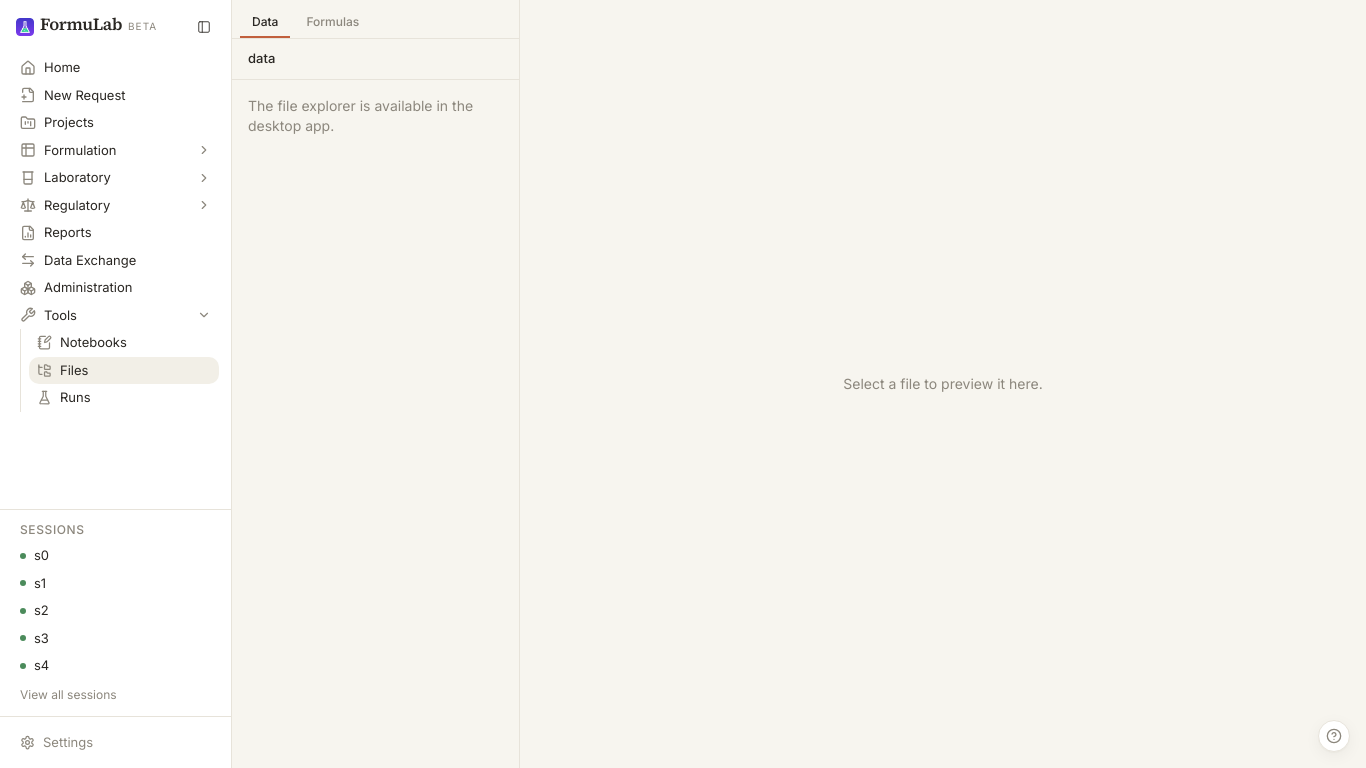
Sidebar — Sessions › expands to show every session, in its own bounded scroll area, after 'View all sessions'
The width and height of the screenshot is (1366, 768).
Click the button "View all sessions" at (116, 694), box [12,682,219,708]
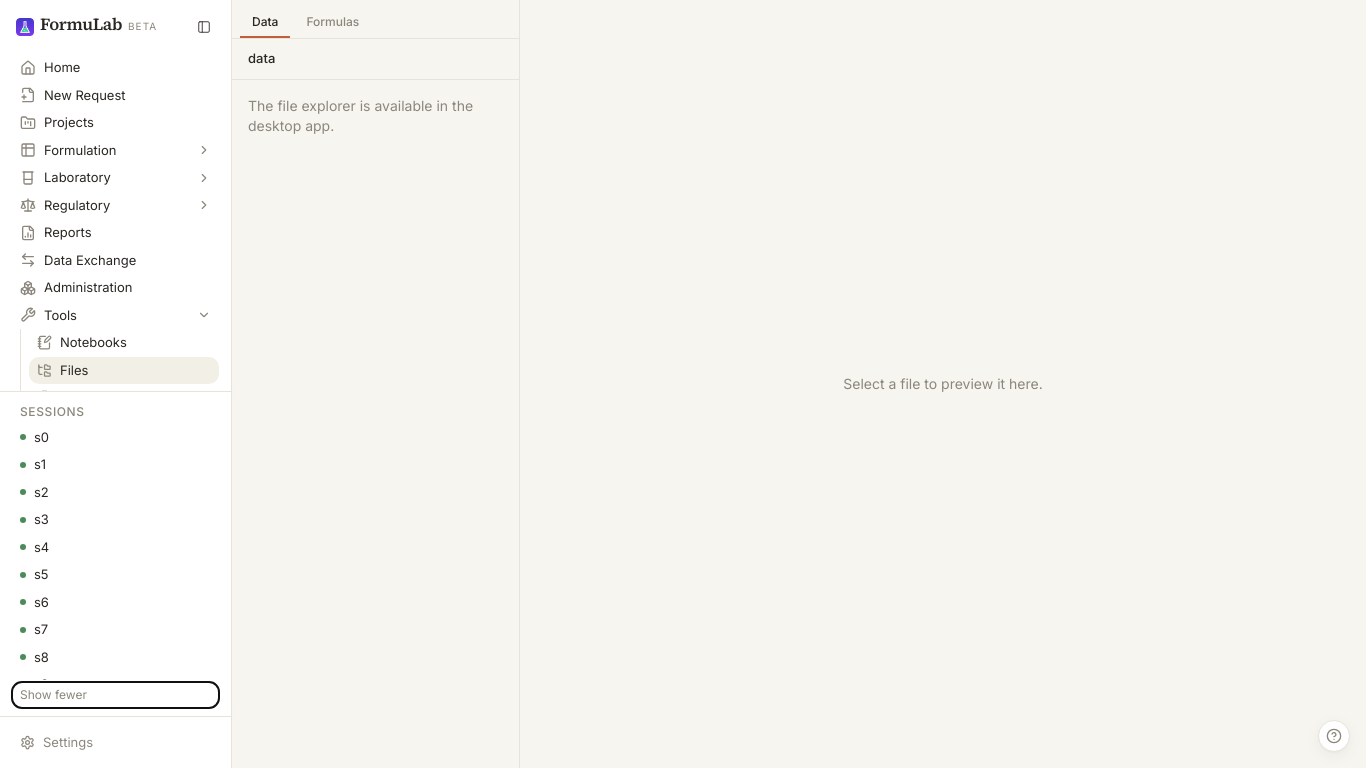
Expected: the text "s5" is shown, [34,566,49,582]
Expected: the text "s6" is shown, [34,594,49,610]
Expected: the button "Show fewer" is shown, [12,682,219,708]
